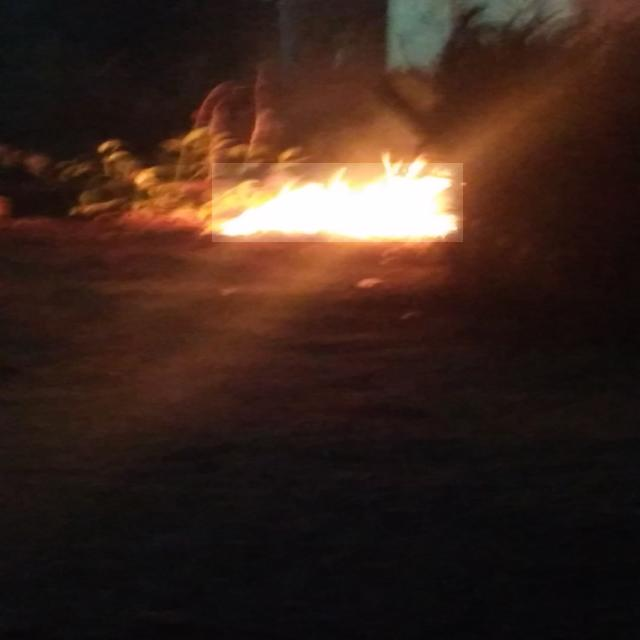Fire: (212, 163, 463, 242)
